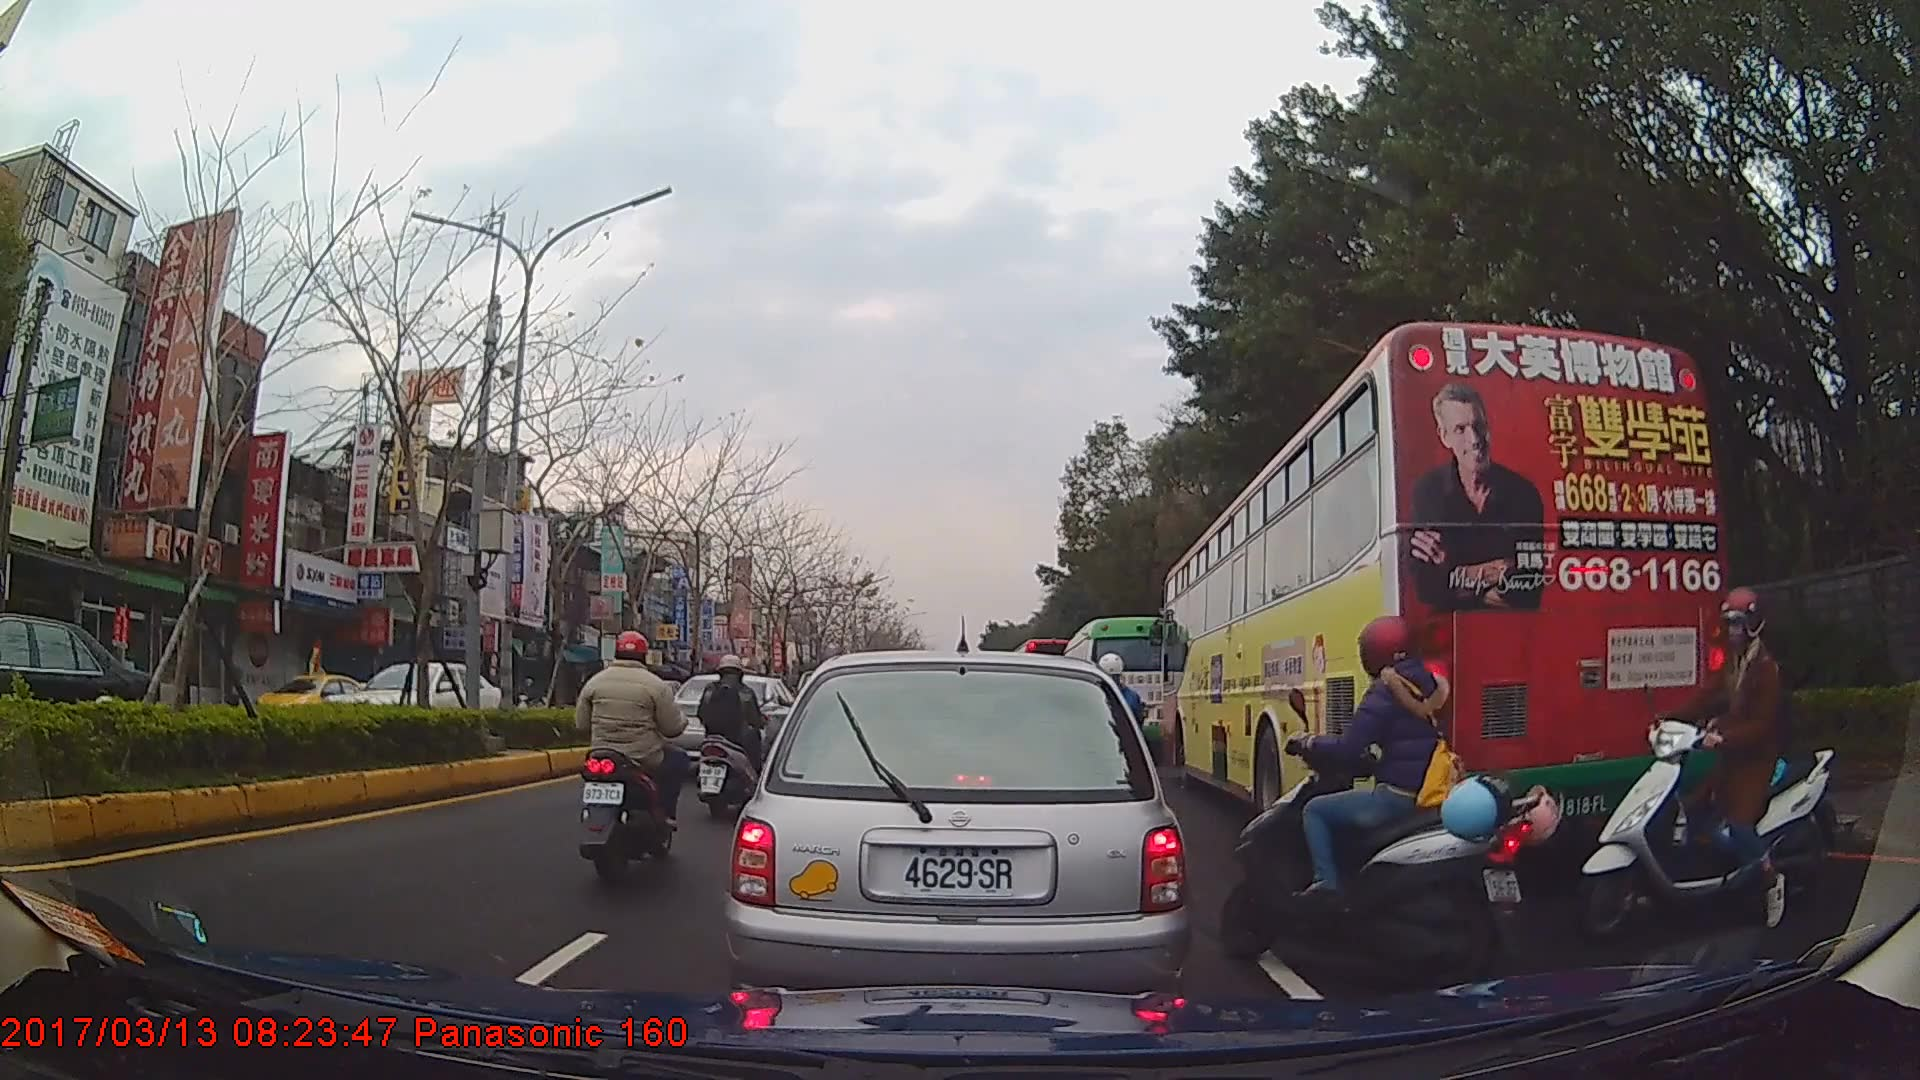rider: (1232, 611, 1561, 989), (1577, 586, 1838, 945), (575, 628, 688, 891), (694, 651, 766, 802)
vehicle: (1160, 319, 1727, 848), (728, 649, 1185, 1013), (0, 610, 149, 763), (1058, 615, 1184, 766), (329, 656, 503, 739), (248, 666, 382, 730)
